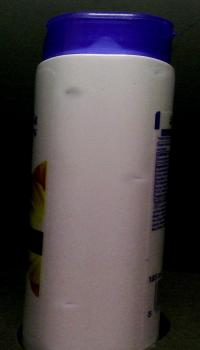dent_marginal: (53, 293, 90, 311), (141, 62, 171, 80), (53, 83, 84, 100), (116, 175, 151, 189)
